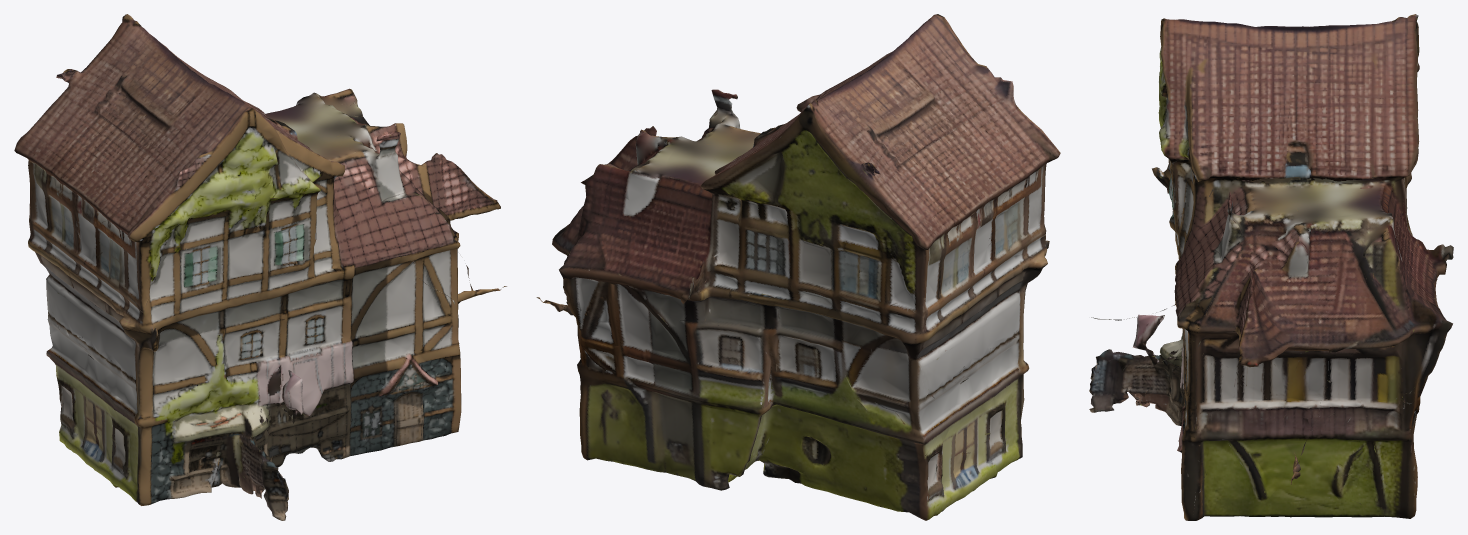
File: sample (11)-16-47-18.fbx
3 views of the same model, side by side, from view 1: azimuth 30°, elevation 25°; view 2: azimuth 150°, elevation 25°; view 3: azimuth 270°, elevation 25° (orthographic). The views are drawn at different scales.
Visible parts, largest first — view 1: lowpoly; view 2: lowpoly; view 3: lowpoly.
Boxes of the visible parts, x1,y1,x2,y2 form: lowpoly: (14, 14, 506, 520); lowpoly: (536, 14, 1060, 520); lowpoly: (1089, 14, 1453, 520).
Bounding box in the file's own units: 190 × 163 × 134.
Materials: 1 (1 with a texture image).
